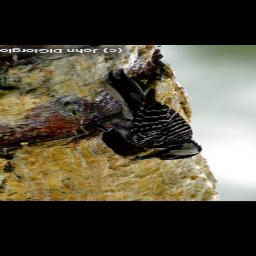Woodpecker: (80, 67, 204, 162)
